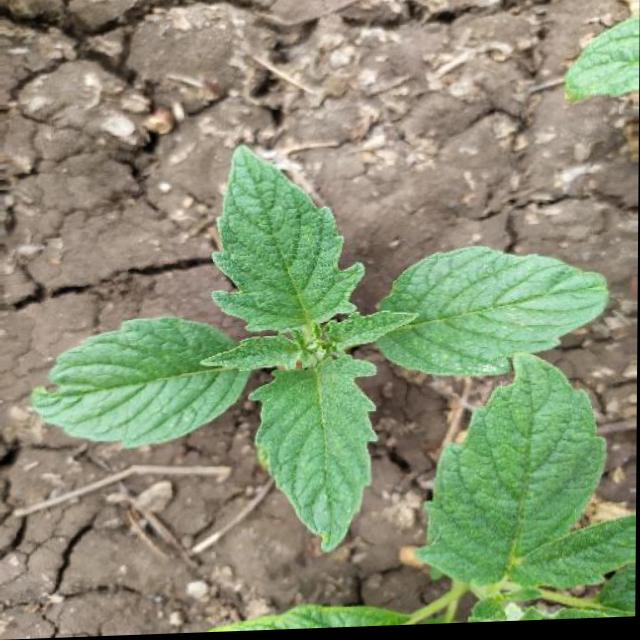crop: (42, 131, 612, 536)
